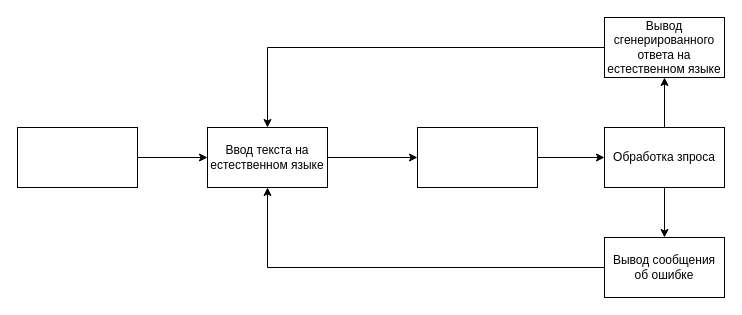
Image size: 742x315. Some labels were removed from this diagram. The centre of each missing label's shape, as x and y in pixels:
"Вывод стартового сообщения" belongs at point (77, 157).
"Объединение введённого текста с пре промптом" belongs at point (477, 157).
